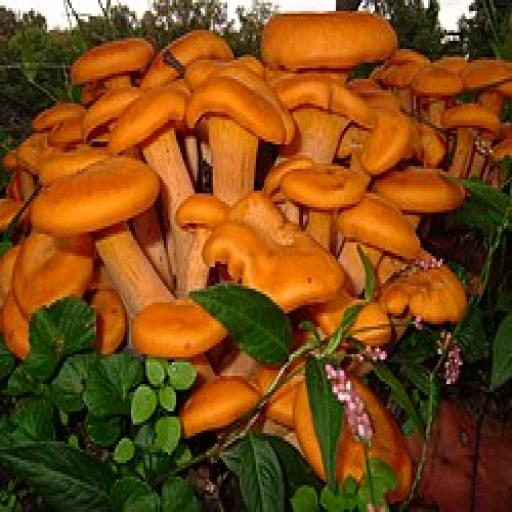Jack O Lantern Mushroom: (33, 161, 190, 310), (203, 196, 342, 312), (106, 87, 210, 229), (189, 75, 281, 212), (259, 4, 398, 79), (122, 295, 229, 385), (279, 67, 362, 168), (10, 224, 104, 307), (161, 369, 263, 445), (340, 191, 419, 288), (372, 158, 469, 229), (286, 159, 358, 247), (177, 190, 229, 296), (390, 263, 466, 335), (67, 35, 153, 95), (150, 25, 228, 88), (439, 104, 495, 183), (411, 61, 465, 131), (0, 290, 49, 366), (81, 290, 133, 356), (466, 50, 512, 114), (32, 101, 90, 131), (51, 112, 97, 149)
